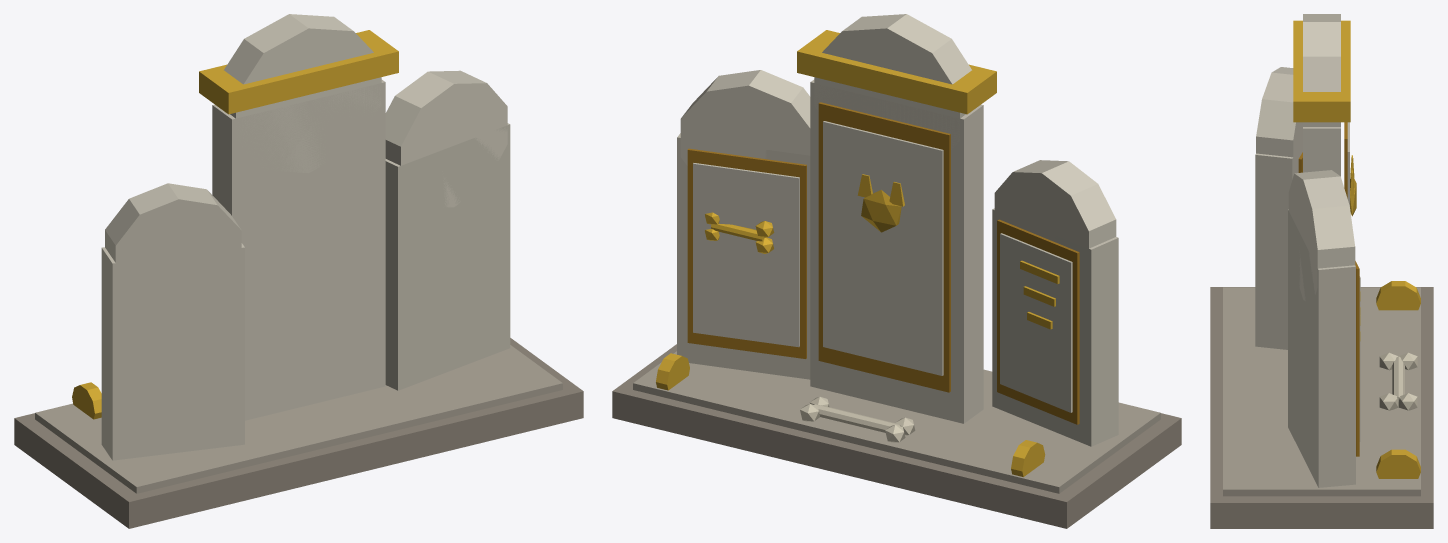
File: Decor_DogeAltar_Tablets.fbx
3 renders of one model, left to right at view 1: azimuth 30°, elevation 25°; view 2: azimuth 150°, elevation 25°; view 3: azimuth 270°, elevation 25°, orthographic. The views are drawn at different scales.
Parts seen in each view (by area): view 1: Tablets_Body; view 2: Tablets_Body; view 3: Tablets_Body.
Boxes of the visible parts, <box> form: Tablets_Body: <box>14,14,583,528</box>; Tablets_Body: <box>612,14,1181,528</box>; Tablets_Body: <box>1210,14,1433,528</box>.
Bounding box in the file's own units: 16 × 13.8 × 7.
